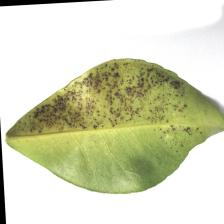canker: (29, 70, 154, 125)
